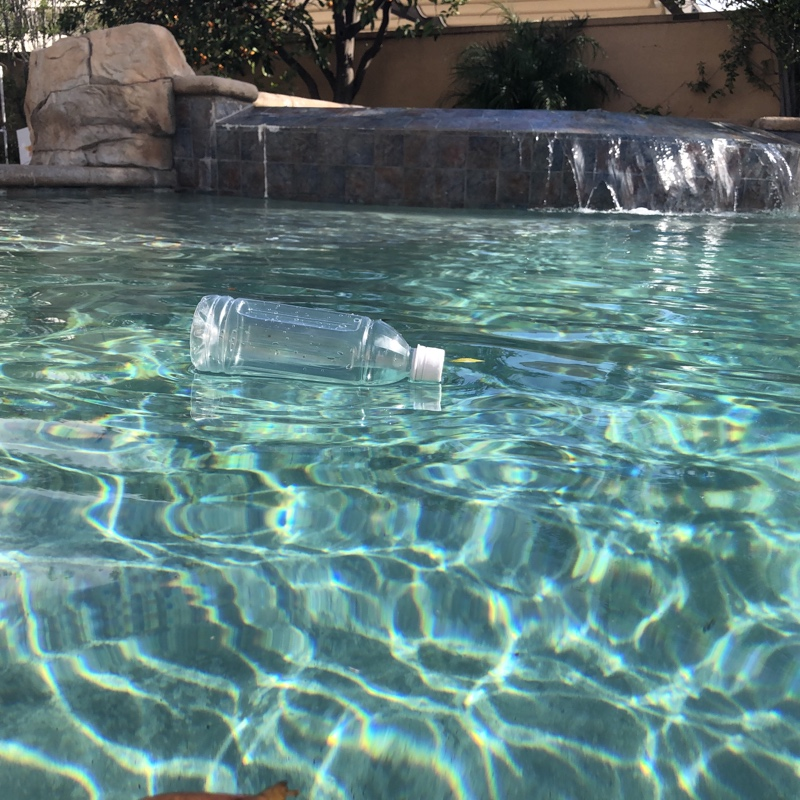Plastic Bottle: (186, 283, 449, 393)
